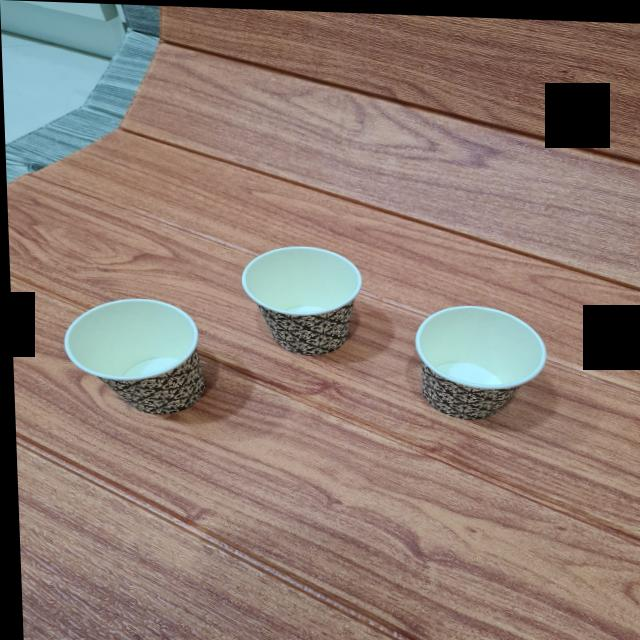cups: (59, 299, 215, 418), (229, 232, 376, 357), (404, 297, 547, 421)
